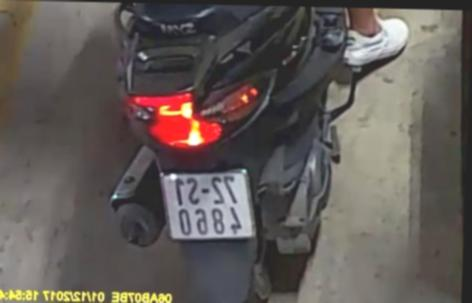License_Plate: (164, 164, 254, 245)
